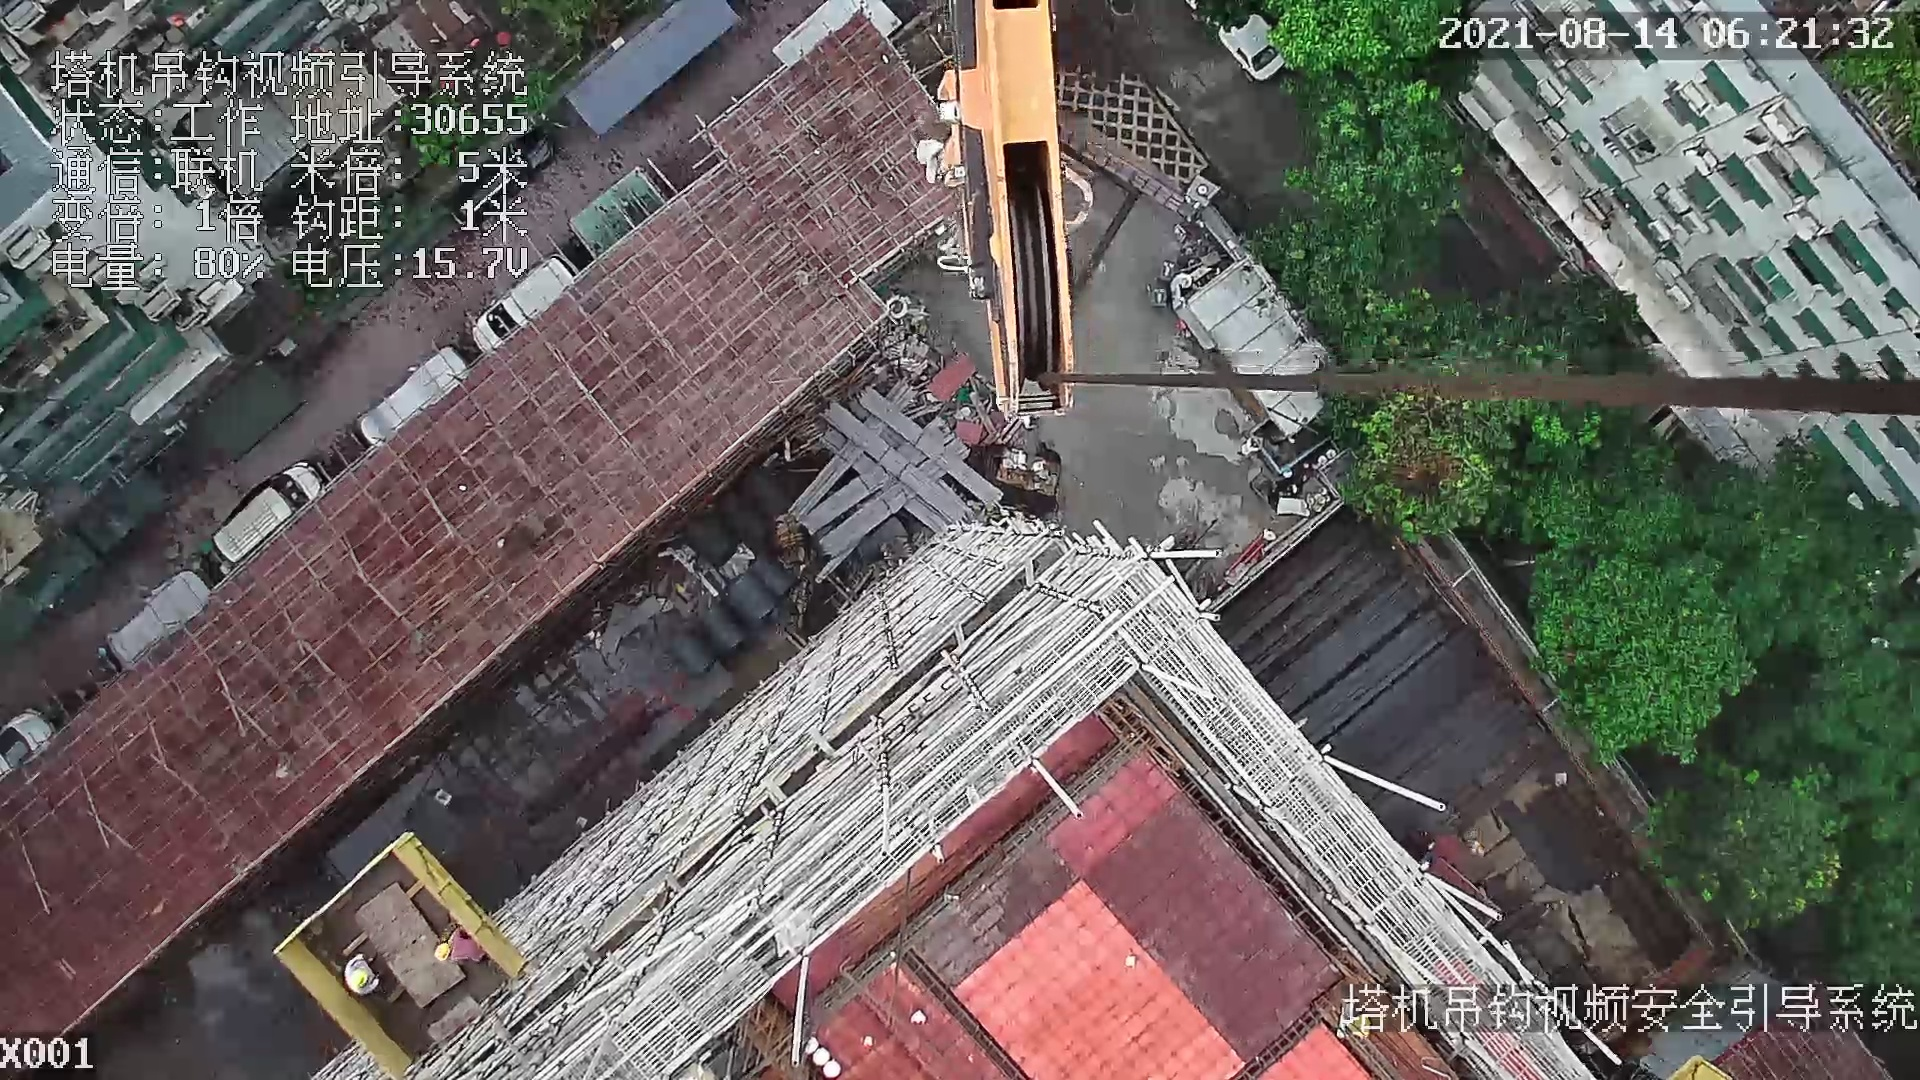helmet: (350, 969, 370, 989), (435, 943, 449, 963)
hook: (932, 1, 1076, 405)
person: (435, 933, 490, 973), (341, 956, 392, 1000)
